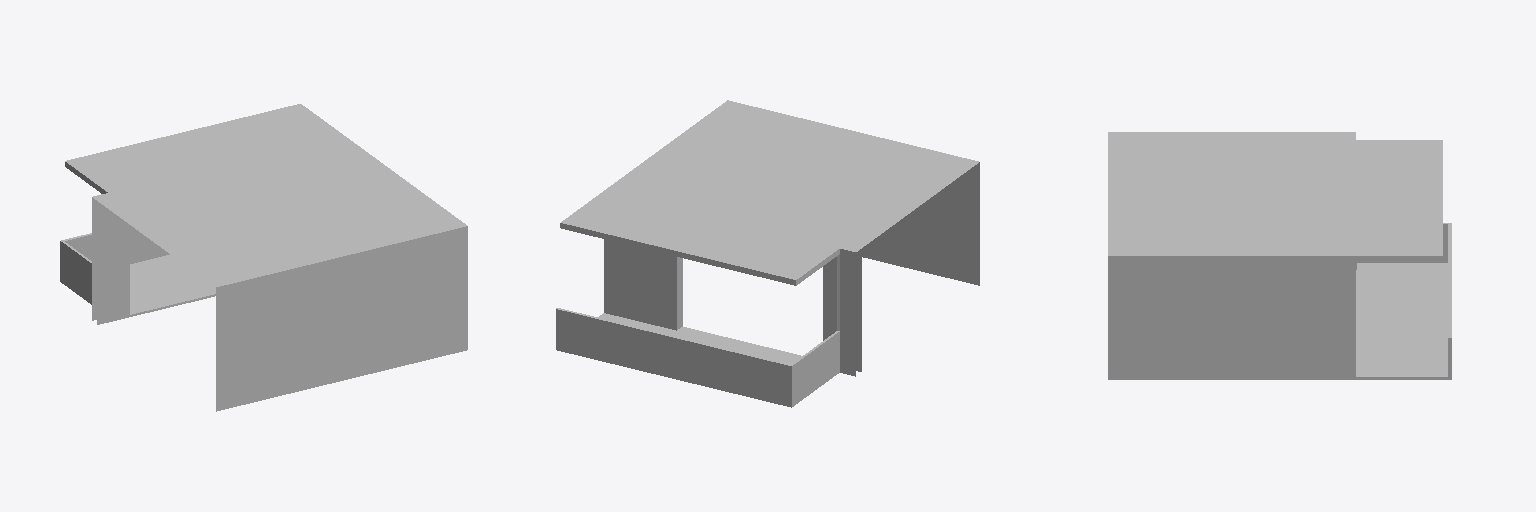
File: MainStructure_Plane.obj
The picture shows the model from 3 angles: view 1: azimuth 30°, elevation 25°; view 2: azimuth 150°, elevation 25°; view 3: azimuth 270°, elevation 25°; orthographic projection.
Parts seen in each view (by area): view 1: MainStructure_Plane; view 2: MainStructure_Plane; view 3: MainStructure_Plane.
Part boxes in pixels (x1,y1,x2,y2): MainStructure_Plane: (60,104,467,411); MainStructure_Plane: (556,100,979,407); MainStructure_Plane: (1108,132,1451,379).
Bounding box in the file's own units: 15.96 × 7.5 × 18.82.